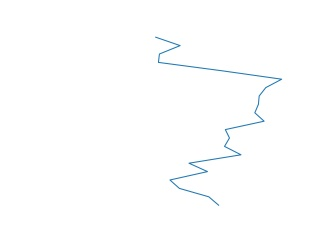floodPlain: (152, 34, 284, 207)
